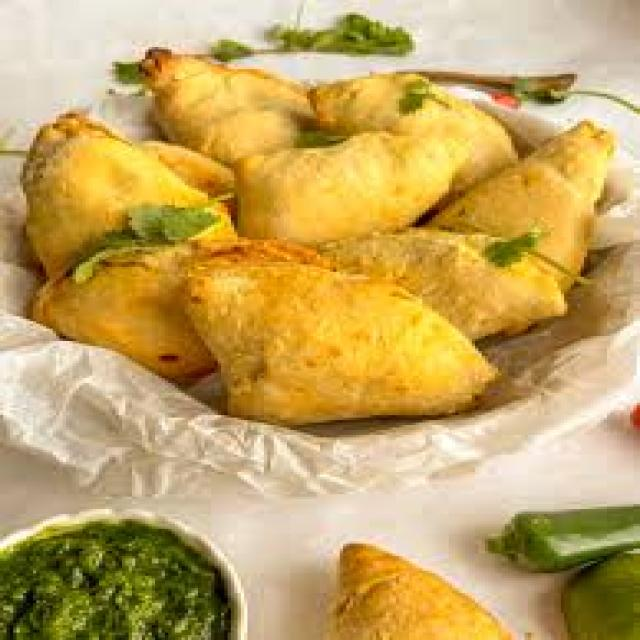SAMOSA: (177, 264, 505, 431), (418, 120, 625, 294), (20, 116, 234, 276), (298, 229, 569, 338)
